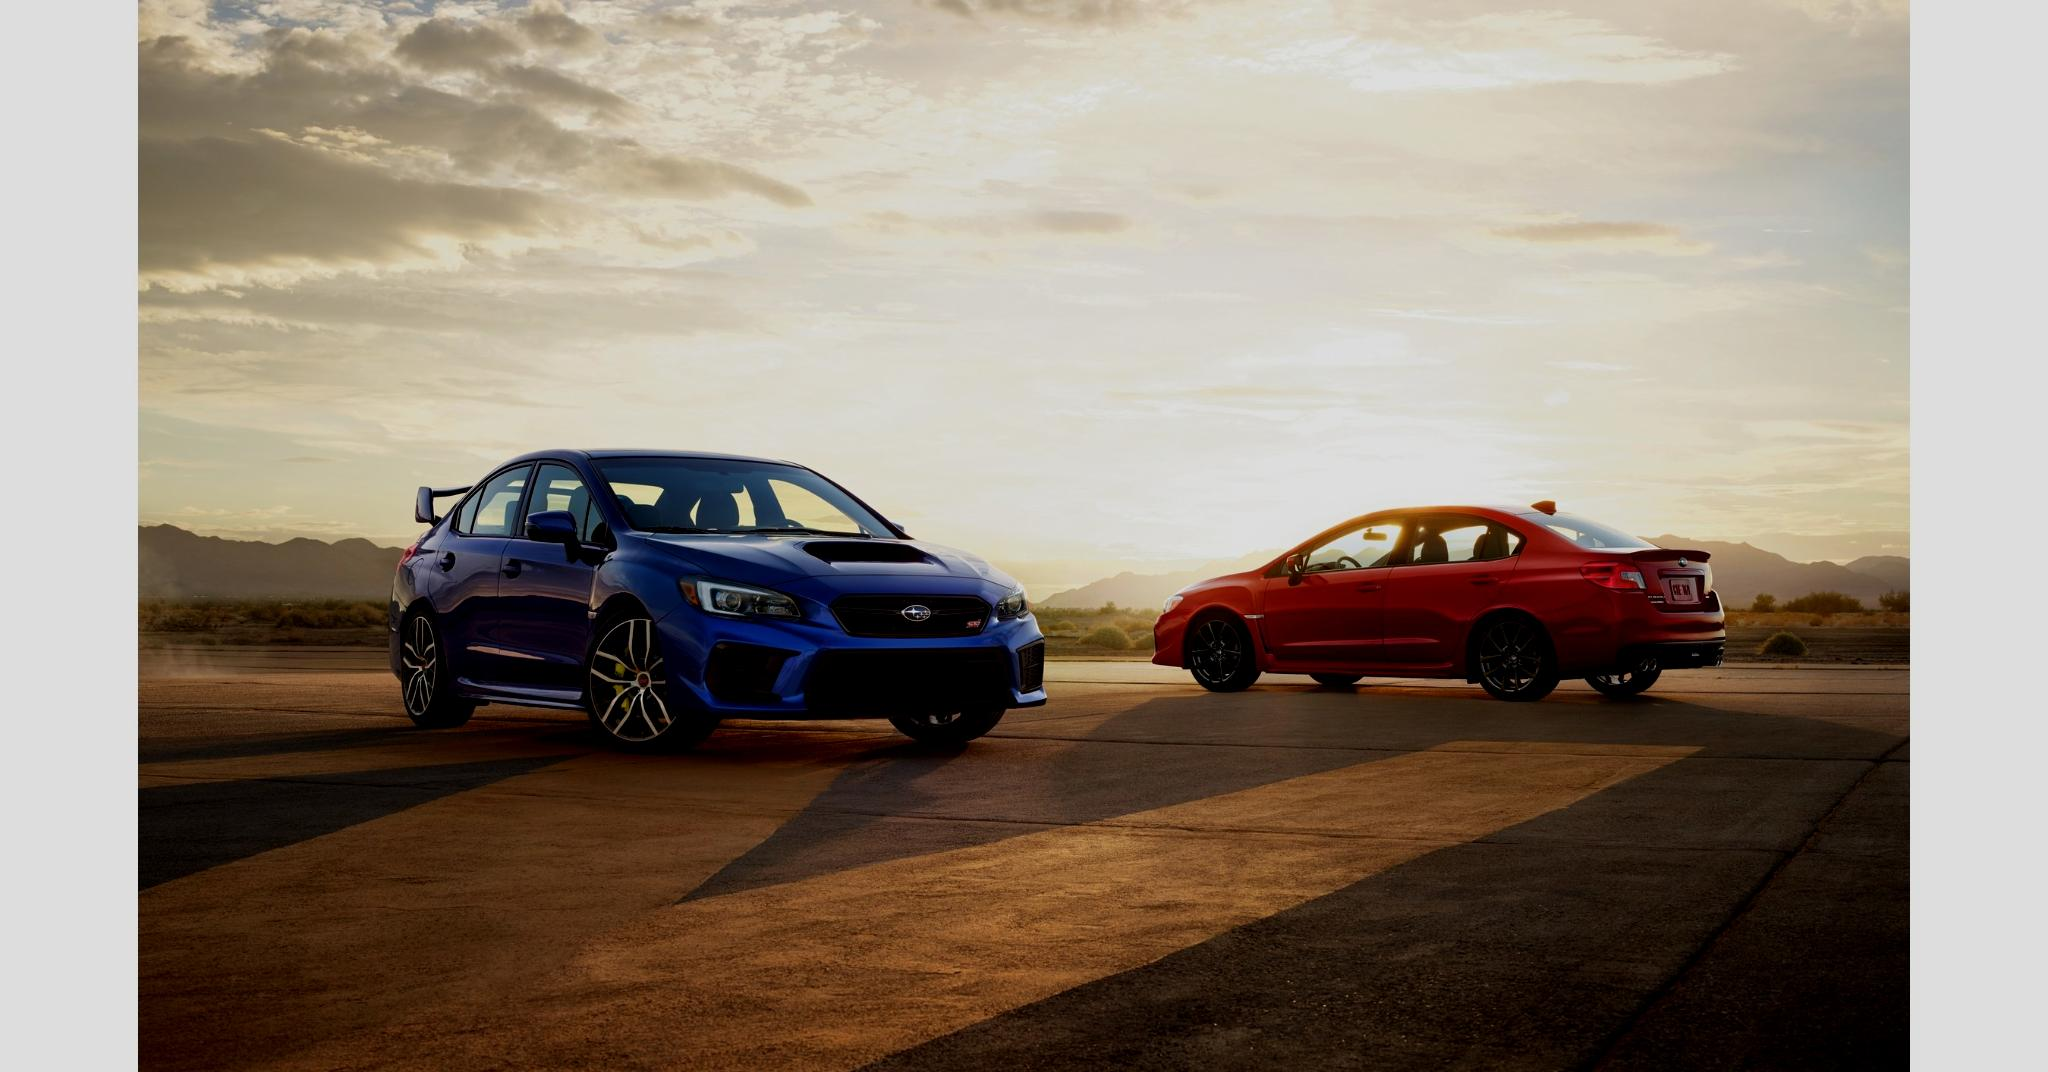subaru: (898, 598, 940, 627)
